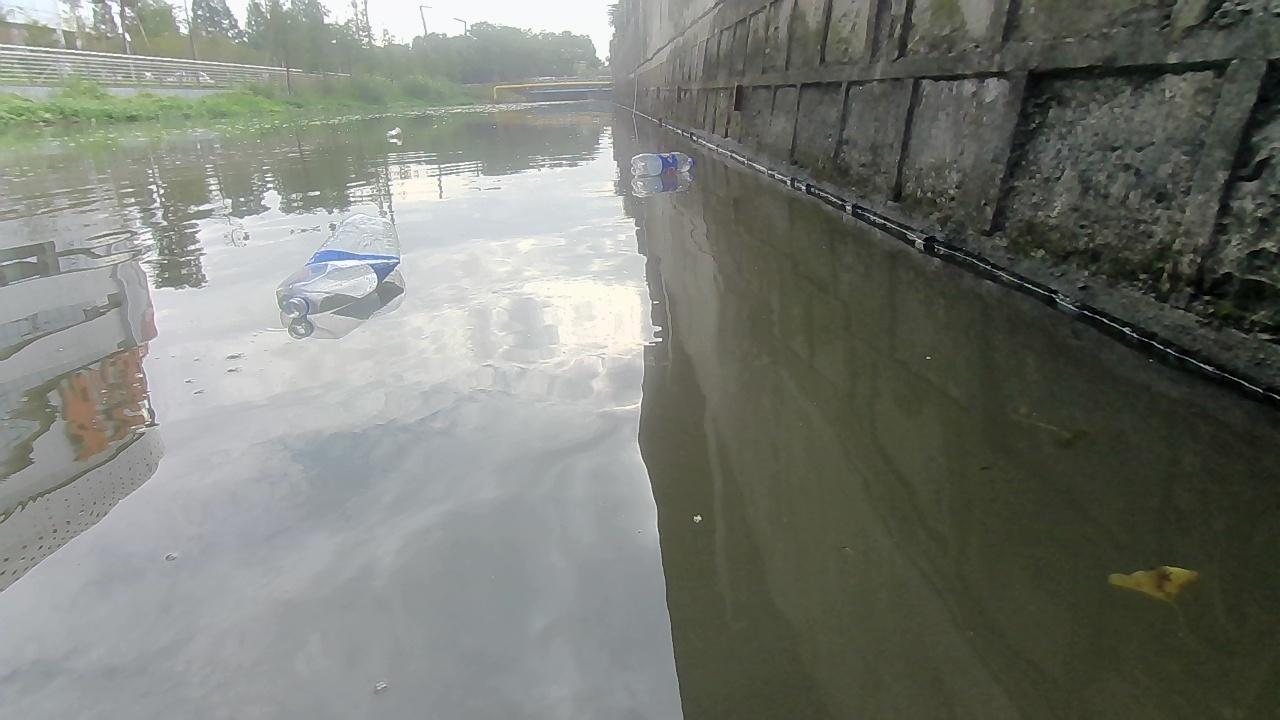bottle: (271, 208, 406, 332), (629, 148, 698, 181), (384, 123, 401, 141)
